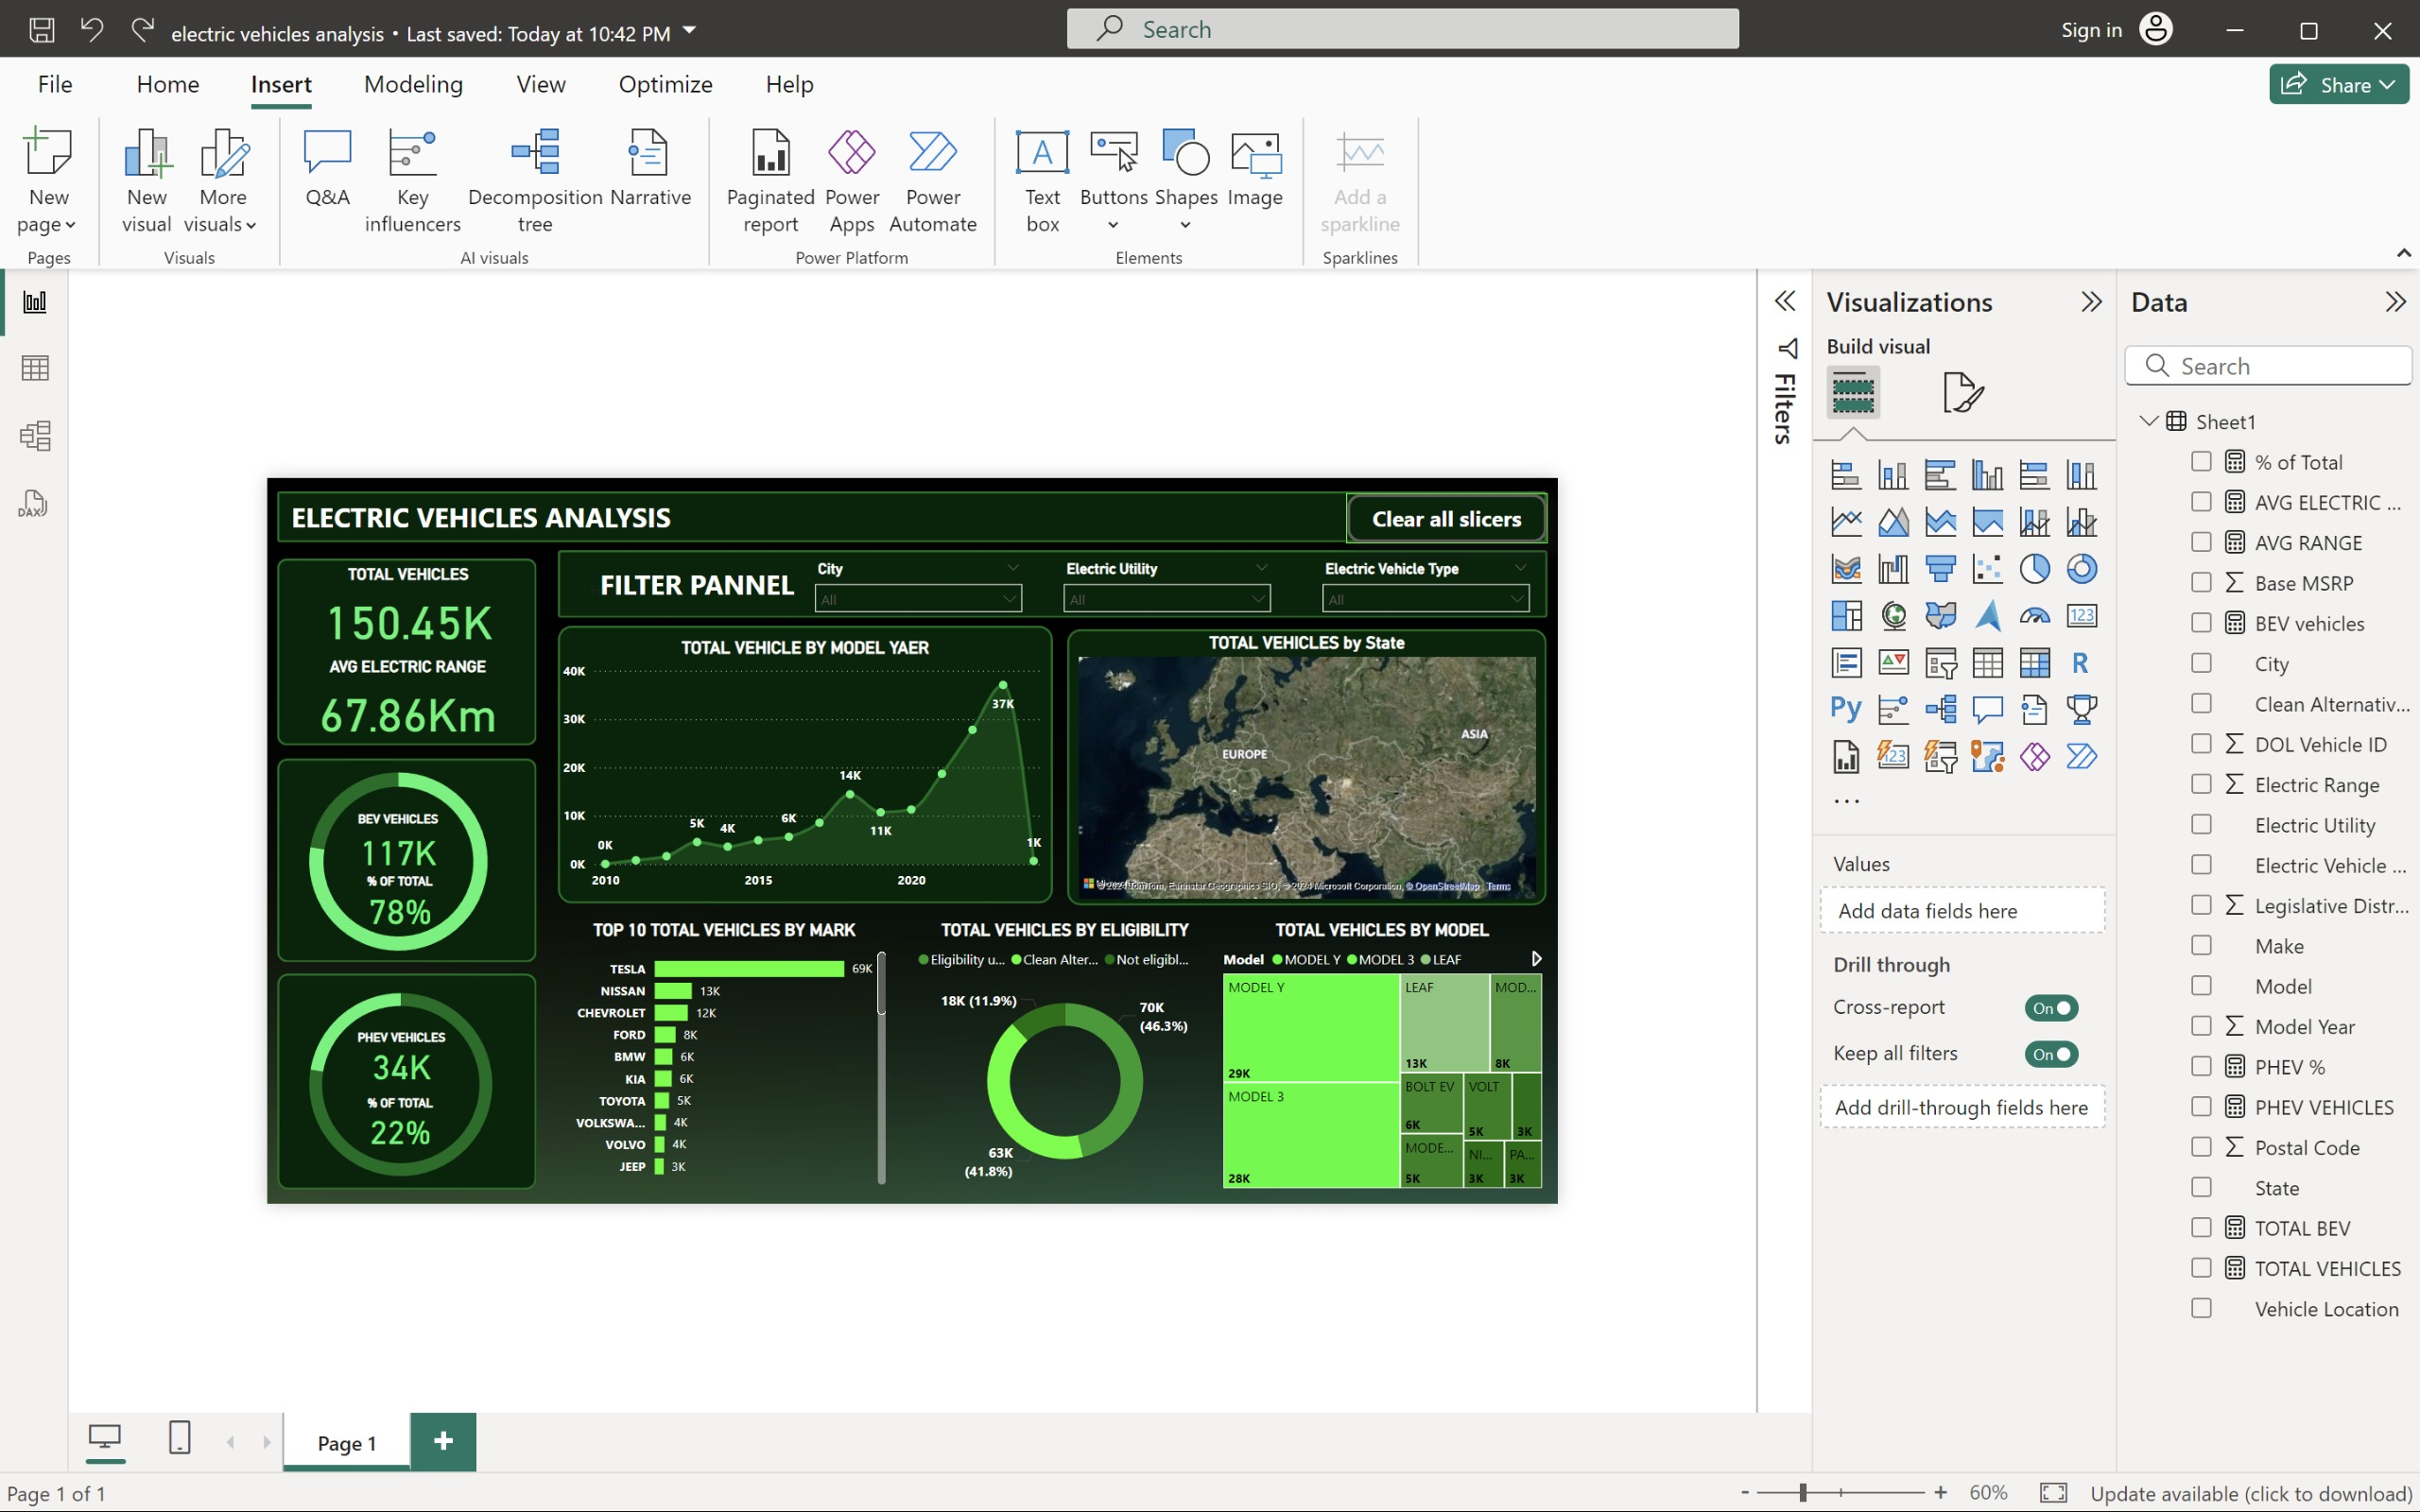

Layout of this report page (visuals, bound fields, positions):
{"tool":"powerbi","page":{"name":"Page 1","canvas":[1280,720],"ordinal":0},"visuals":[{"type":"shape","box":[10.7,13.8,1258.6,50.5],"z":0},{"type":"textbox","box":[10.7,15.3,404.2,49],"z":1000},{"type":"shape","box":[10.7,79.6,257.2,185.3],"z":2000},{"type":"shape","box":[10.7,278.7,257.2,202.1],"z":3000},{"type":"shape","box":[10.7,491.5,257.2,214.4],"z":4000},{"type":"card","title":"TOTAL VEHICLES","fields":{"Values":["Sheet1.TOTAL VEHICLES"]},"box":[36.7,87.3,206.7,85.7],"z":5000},{"type":"card","title":"AVG ELECTRIC RANGE","fields":{"Values":["Sheet1.AVG RANGE"]},"box":[12.2,179.1,255.7,85.7],"z":6000},{"type":"donutChart","fields":{"Category":["Sheet1.Electric Vehicle Type"],"Y":["Sheet1.TOTAL VEHICLES"]},"box":[0,264.9,260.3,231.2],"z":7000},{"type":"card","title":"BEV VEHICLES","fields":{"Values":["Sheet1.BEV vehicles"]},"box":[82.9,331.4,92.9,61.4],"z":8000},{"type":"card","title":"% OF TOTAL","fields":{"Values":["Sheet1.% of Total"]},"box":[84.2,393.5,93.4,55.1],"z":9000},{"type":"donutChart","fields":{"Y":["Sheet1.TOTAL VEHICLES"],"Category":["Sheet1.Electric Vehicle Type"]},"box":[0,483.8,265,237],"z":10000},{"type":"card","title":"PHEV VEHICLES","fields":{"Values":["Sheet1.PHEV VEHICLES"]},"box":[75.1,548.1,116.7,54.3],"z":11000},{"type":"card","title":"% OF TOTAL","fields":{"Values":["Sheet1.PHEV %"]},"box":[84.7,613.6,94.3,52.7],"z":12000},{"type":"shape","box":[288.6,71.4,981.4,67.1],"z":13000},{"type":"shape","box":[288.1,146.6,490.8,275.4],"z":14000},{"type":"areaChart","title":"TOTAL VEHICLE BY MODEL YAER","fields":{"Y":["Sheet1.TOTAL VEHICLES"],"Category":["Sheet1.Model Year"]},"box":[288.1,158.1,490.8,258.8],"z":15000},{"type":"clusteredBarChart","title":"TOP 10 TOTAL VEHICLES BY MARK","fields":{"Category":["Sheet1.Make"],"Y":["Sheet1.TOTAL VEHICLES"]},"box":[288.1,438.6,330.2,267.7],"z":16000},{"type":"shape","box":[793,150.4,475.5,274.1],"z":17000},{"type":"filledMap","fields":{"Category":["Sheet1.State"]},"box":[800,152.9,462.9,268.6],"z":18000},{"type":"donutChart","title":"TOTAL VEHICLES BY ELIGIBILITY","fields":{"Category":["Sheet1.Clean Alternative Fuel Vehicle (CAFV) Eligibility"],"Y":["Sheet1.TOTAL VEHICLES"]},"box":[640,438.6,302.9,271.4],"z":19000},{"type":"treemap","title":"TOTAL VEHICLES BY MODEL","fields":{"Values":["Sheet1.TOTAL VEHICLES"],"Group":["Sheet1.Model"]},"box":[943,439,326,271],"z":20000},{"type":"textbox","box":[300,81.4,250,48.6],"z":21000},{"type":"slicer","fields":{"Values":["Sheet1.City"]},"box":[532.9,77.1,225.7,57.1],"z":22000},{"type":"slicer","fields":{"Values":["Sheet1.Electric Vehicle Type"]},"box":[1037.1,77.1,225.7,57.1],"z":23000},{"type":"slicer","fields":{"Values":["Sheet1.Electric Utility"]},"box":[780,77.1,225.7,57.1],"z":24000},{"type":"actionButton","box":[1070,15.7,200,50],"z":25000}]}

Visuals, with their boxes on the page's 1280x720 design canvas (x1, y1, x2, y2). These are canvas units, not pixel positions in the 2420x1512 screenshot, which may show the page scaled, cropped or inside an application window:
shape: x1=11 y1=14 x2=1269 y2=64
textbox: x1=11 y1=15 x2=415 y2=64
shape: x1=11 y1=80 x2=268 y2=265
shape: x1=11 y1=279 x2=268 y2=481
shape: x1=11 y1=492 x2=268 y2=706
"TOTAL VEHICLES" card: x1=37 y1=87 x2=243 y2=173
"AVG ELECTRIC RANGE" card: x1=12 y1=179 x2=268 y2=265
donutChart - Sheet1.Electric Vehicle Type x Sheet1.TOTAL VEHICLES: x1=0 y1=265 x2=260 y2=496
"BEV VEHICLES" card: x1=83 y1=331 x2=176 y2=393
"% OF TOTAL" card: x1=84 y1=394 x2=178 y2=449
donutChart - Sheet1.TOTAL VEHICLES x Sheet1.Electric Vehicle Type: x1=0 y1=484 x2=265 y2=721
"PHEV VEHICLES" card: x1=75 y1=548 x2=192 y2=602
"% OF TOTAL" card: x1=85 y1=614 x2=179 y2=666
shape: x1=289 y1=71 x2=1270 y2=138
shape: x1=288 y1=147 x2=779 y2=422
"TOTAL VEHICLE BY MODEL YAER" areaChart: x1=288 y1=158 x2=779 y2=417
"TOP 10 TOTAL VEHICLES BY MARK" clusteredBarChart: x1=288 y1=439 x2=618 y2=706
shape: x1=793 y1=150 x2=1268 y2=424
filledMap - Sheet1.State: x1=800 y1=153 x2=1263 y2=422
"TOTAL VEHICLES BY ELIGIBILITY" donutChart: x1=640 y1=439 x2=943 y2=710
"TOTAL VEHICLES BY MODEL" treemap: x1=943 y1=439 x2=1269 y2=710
textbox: x1=300 y1=81 x2=550 y2=130
slicer - Sheet1.City: x1=533 y1=77 x2=759 y2=134
slicer - Sheet1.Electric Vehicle Type: x1=1037 y1=77 x2=1263 y2=134
slicer - Sheet1.Electric Utility: x1=780 y1=77 x2=1006 y2=134
actionButton: x1=1070 y1=16 x2=1270 y2=66
